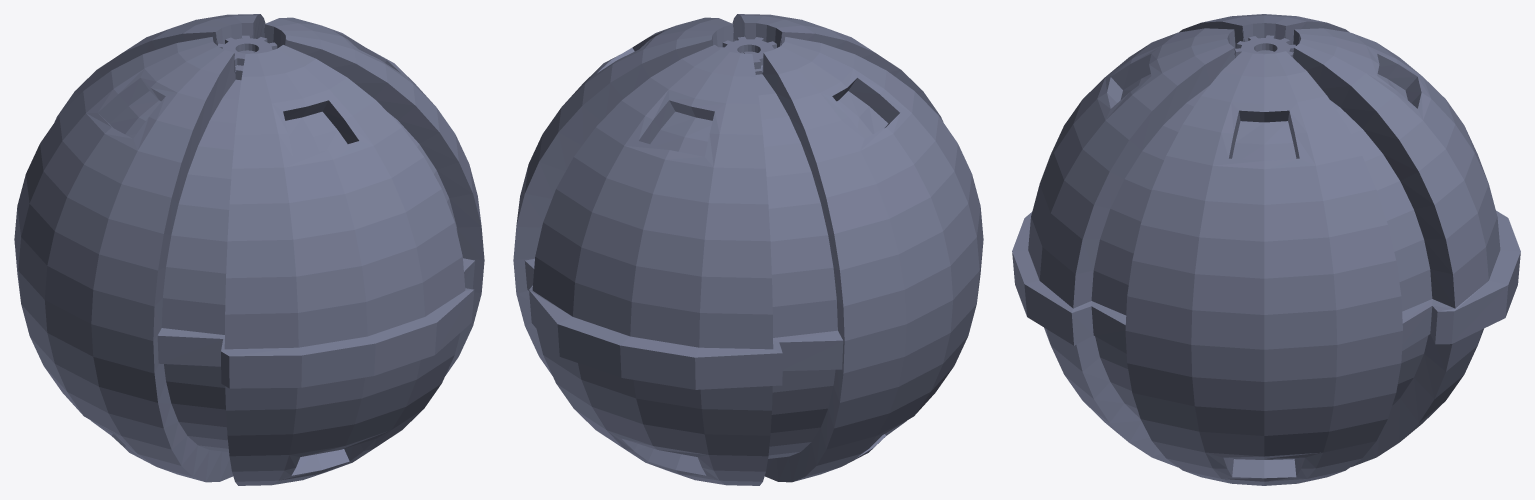
The model's file is PlayerModel.fbx.
The picture shows the model from 3 angles, left to right: view 1: azimuth 30°, elevation 25°; view 2: azimuth 150°, elevation 25°; view 3: azimuth 270°, elevation 25°; orthographic projection.
Visible parts, largest first — view 1: polySurface1; view 2: polySurface1; view 3: polySurface1.
Part boxes in pixels (left/top/right/bottom): polySurface1: left=14, top=14, right=484, bottom=485; polySurface1: left=513, top=14, right=983, bottom=485; polySurface1: left=1012, top=14, right=1520, bottom=485.
Size of the model in its own units: 10.49 by 10.42 by 11.3.
